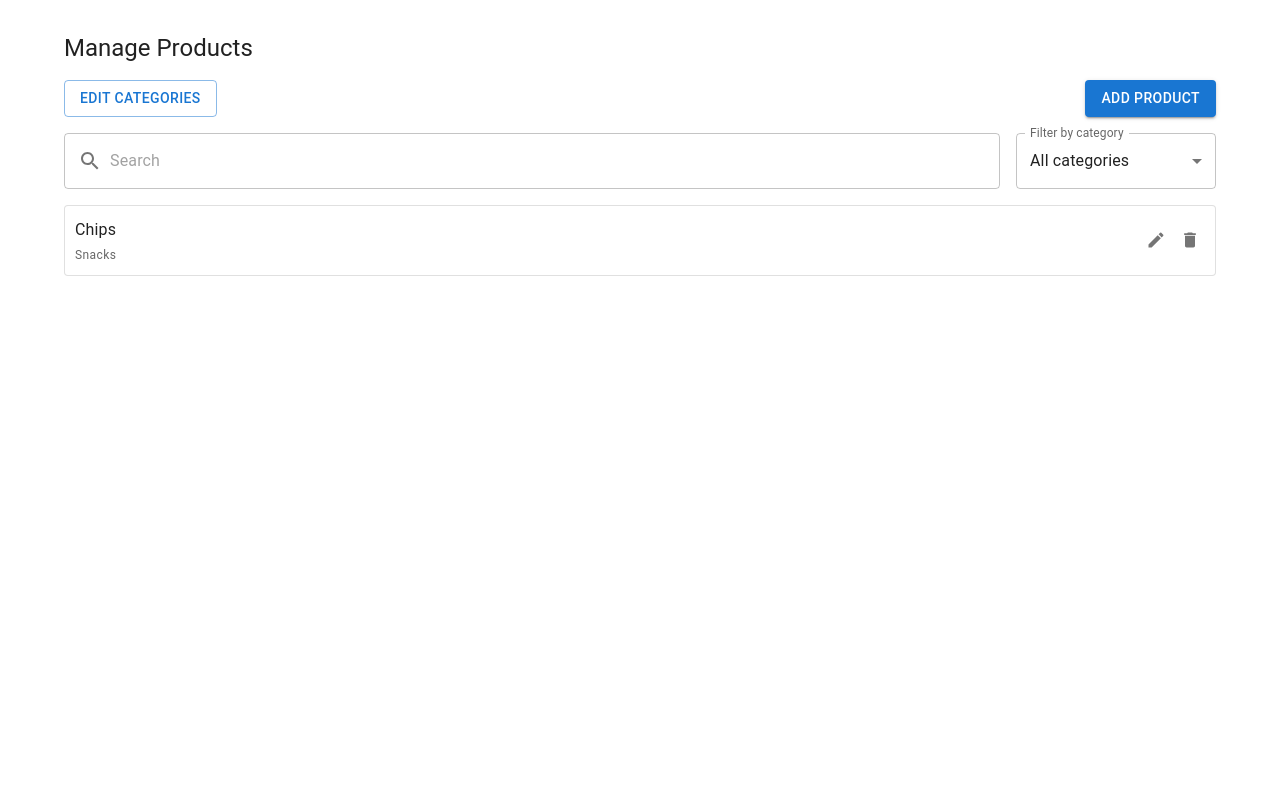
ManageProductsScreen deletion safeguards › blocks deletion when pick items reference the product
Click the button named "delete chips": x=1190, y=240 [1175,226,1205,256]
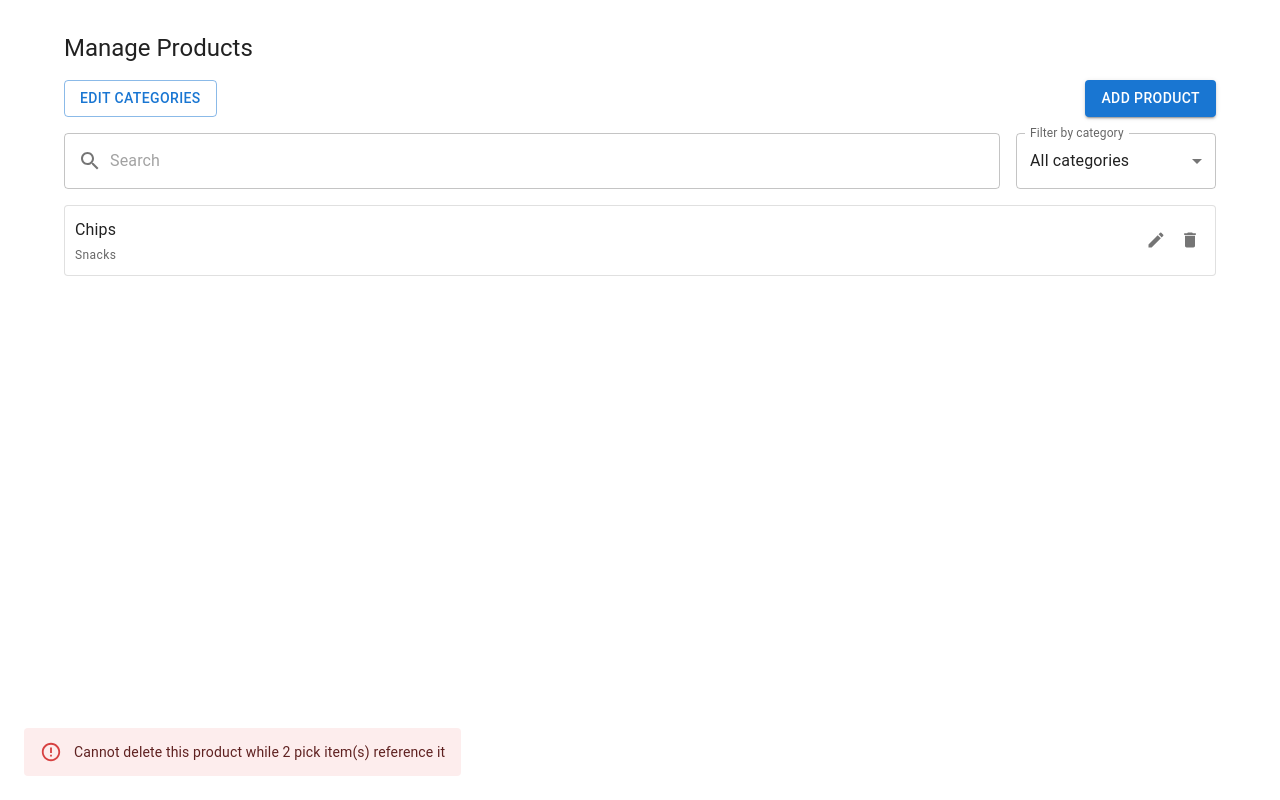
Now the text "Cannot delete this product while 2 pick item(s) reference it" is shown, box [74,744,445,760]
